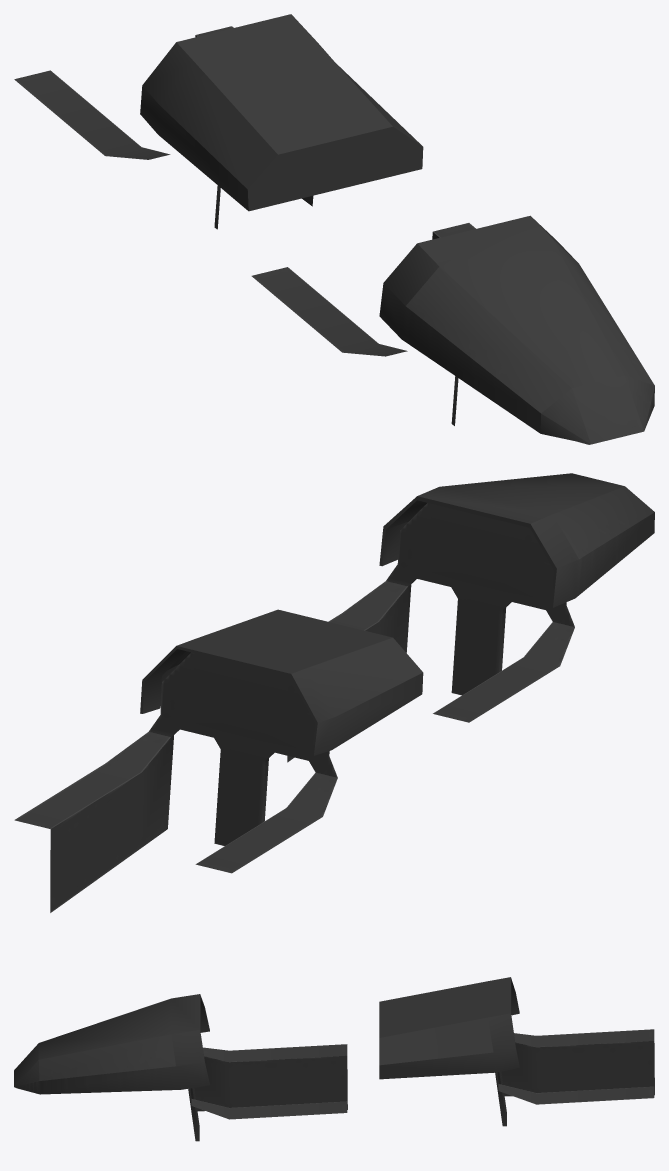
Rendered from Cockpit.fbx.
3 views of the same model, one above another, from view 1: azimuth 30°, elevation 25°; view 2: azimuth 150°, elevation 25°; view 3: azimuth 270°, elevation 25° (orthographic). The views are drawn at different scales.
Visible parts, largest first — view 1: Hubs, SidePanels; view 2: SidePanels, Hubs; view 3: Hubs, SidePanels.
Part boxes in pixels (<box>): Hubs: <box>140,14,654,444</box>; SidePanels: <box>14,26,475,425</box>; SidePanels: <box>14,503,574,912</box>; Hubs: <box>140,473,654,755</box>; Hubs: <box>14,977,519,1094</box>; SidePanels: <box>188,1029,654,1141</box>.
Size of the model in its own units: 87.41 by 82.23 by 344.
